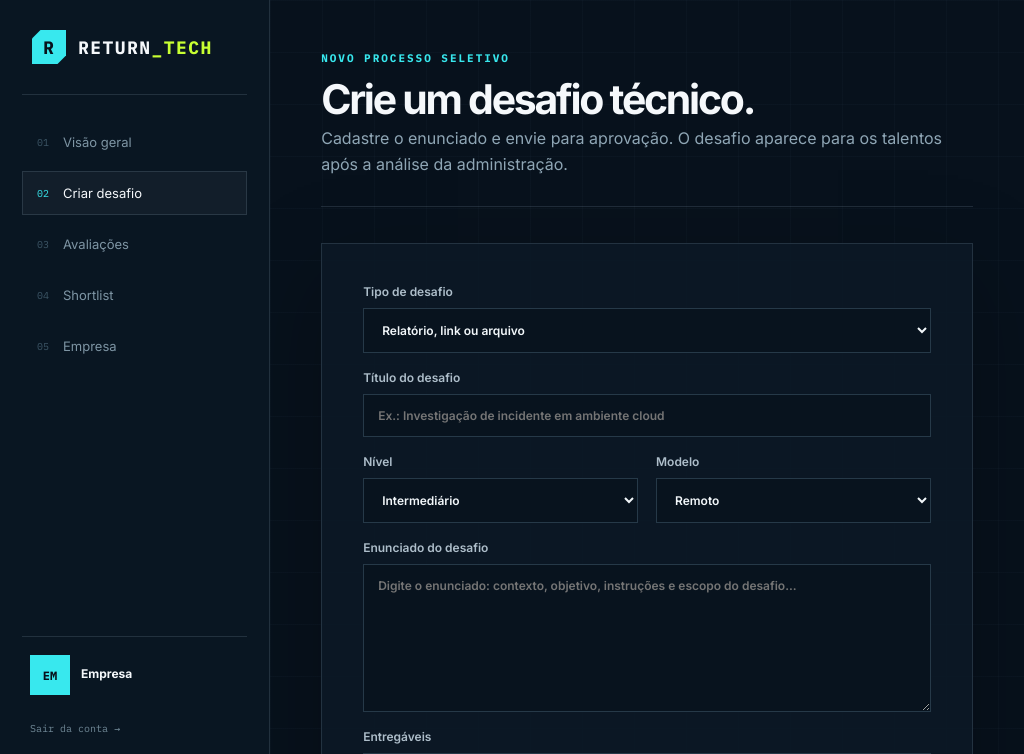
integration with existing project flows › creates a code challenge with friendly fields and resets to report creation
The image size is (1024, 754).
Later steps or results of the test are not shown.
expect the dropdown labelled "Tipo de desafio" is shown: met, box [363,308,931,354]
Type "Soma de valores" into the field labelled "Título do desafio" at (647, 416), box [363,394,931,438]
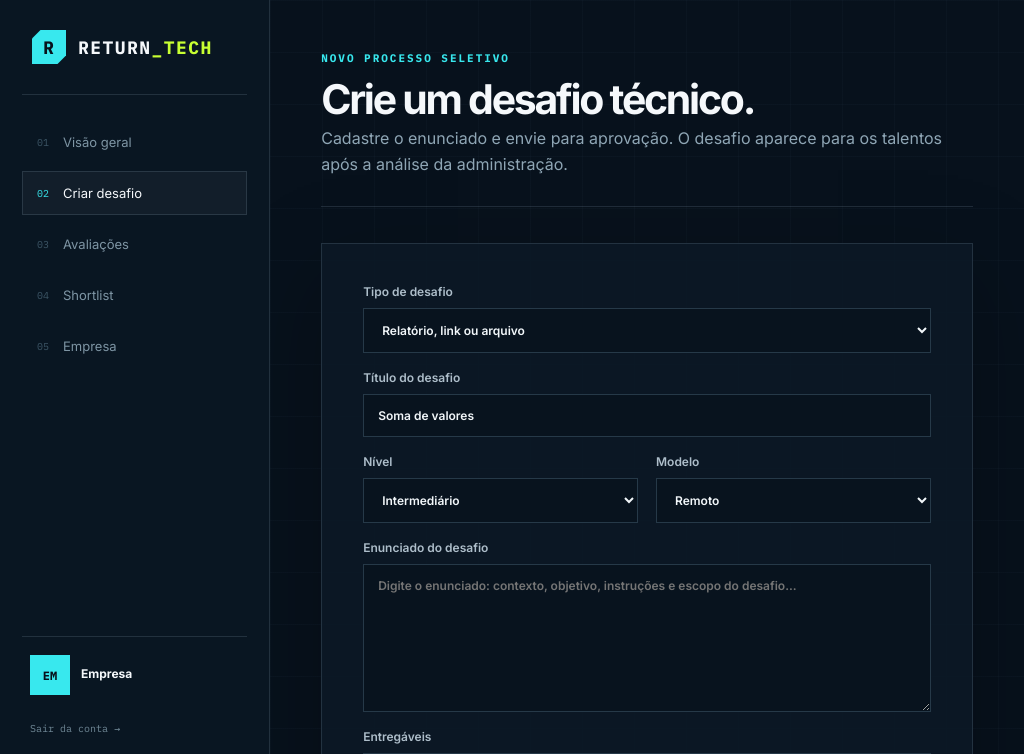
Replace the text in the text box labelled "Enunciado do desafio" with "Some os valores recebidos na entrada." at (647, 638), box [363,564,931,712]
(page scrolled)
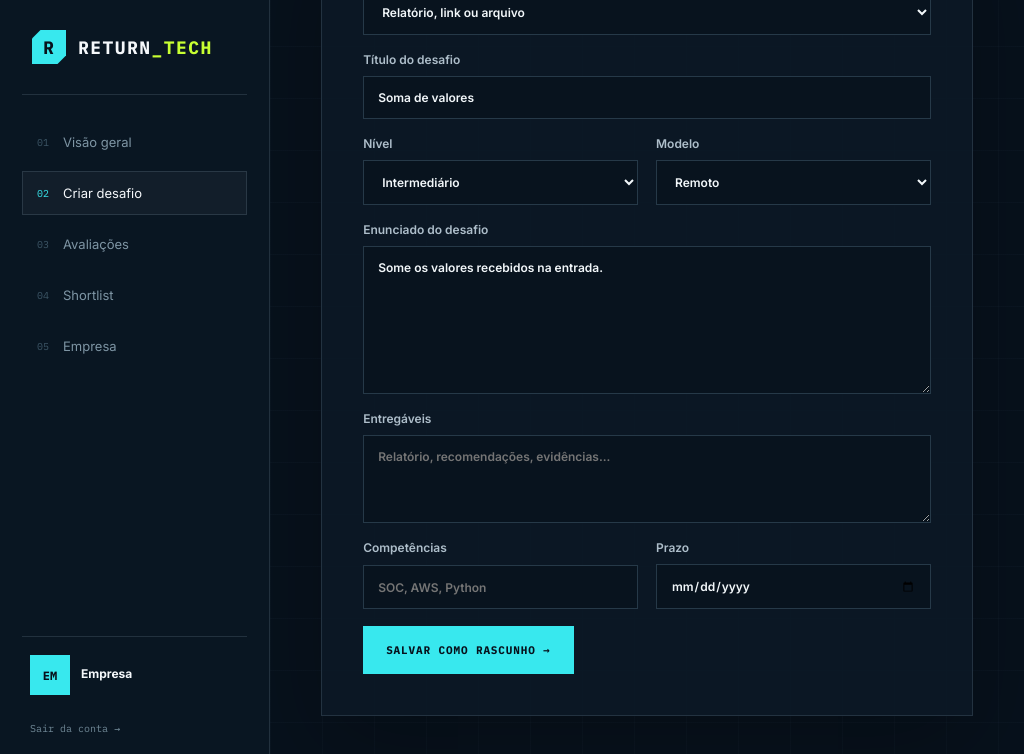
Type "Uma solução para o problema." into the text box labelled "Entregáveis" at (647, 480), box [363,436,931,524]
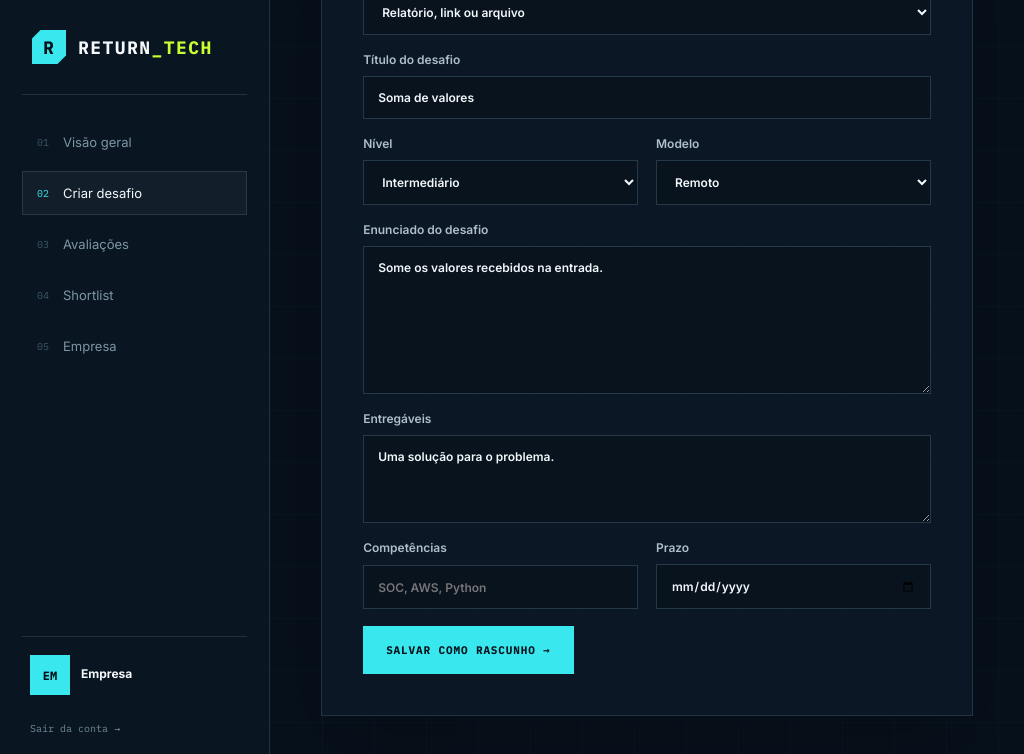
Type "Python, Lógica" into the field labelled "Competências" at (501, 588), box [363,566,638,610]
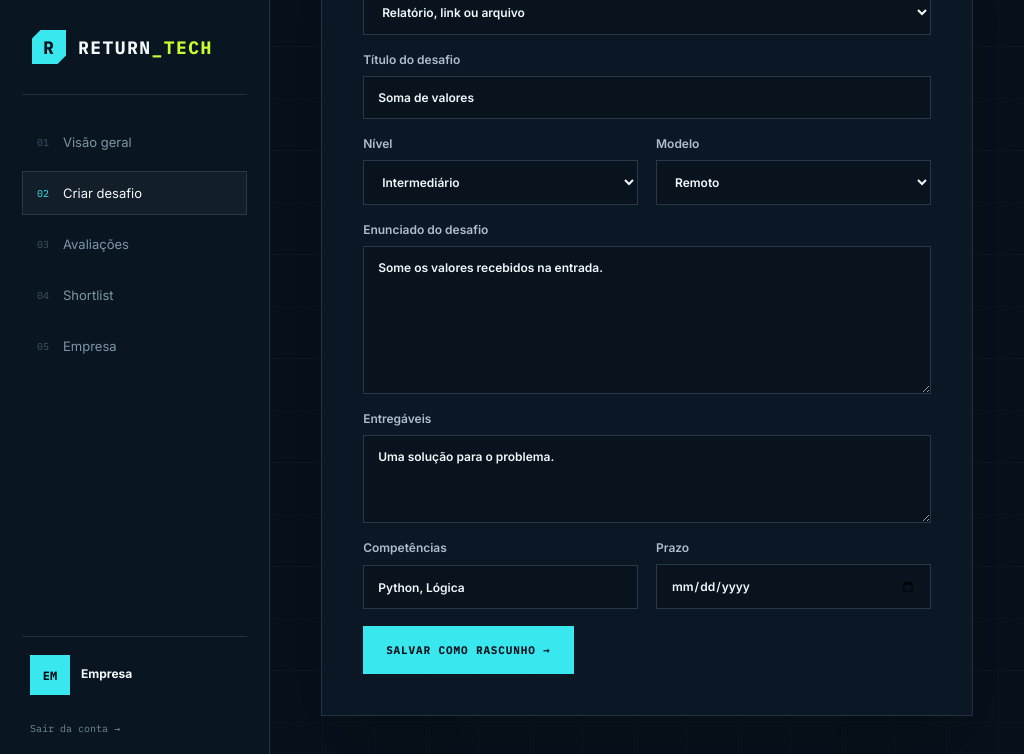
Type "2099-12-31" into the date field labelled "Prazo" at (793, 587), box [656,564,931,610]
(page scrolled)
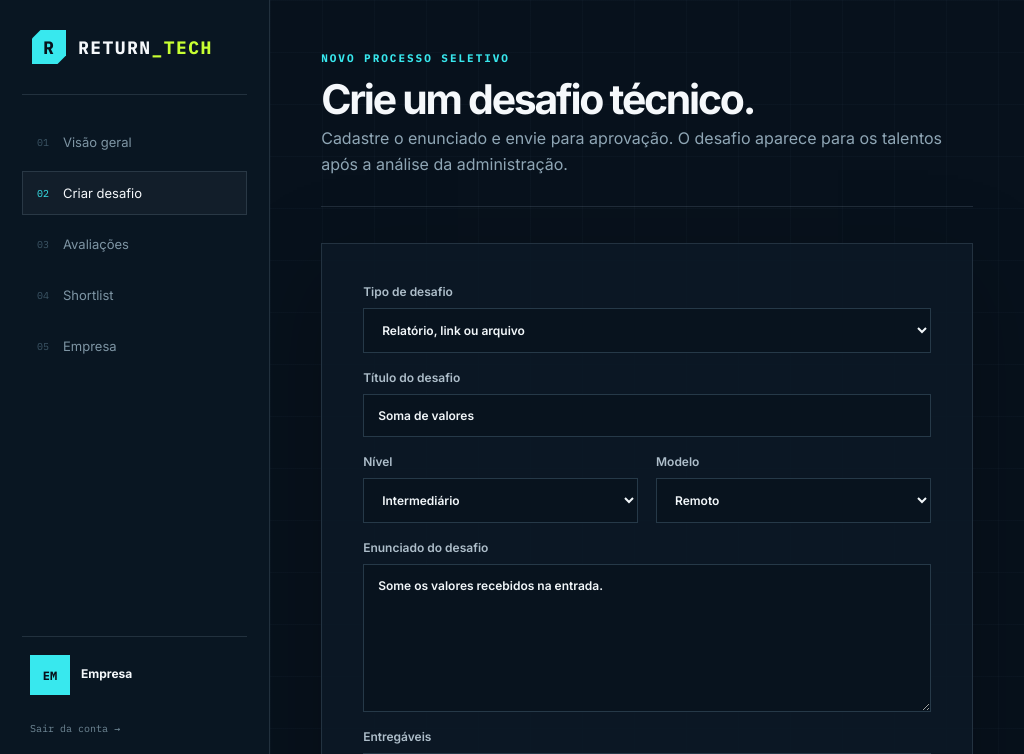
Select "Código com correção automática (Judge0)" in the dropdown labelled "Tipo de desafio" at (647, 331), box [363,308,931,354]
(page scrolled)
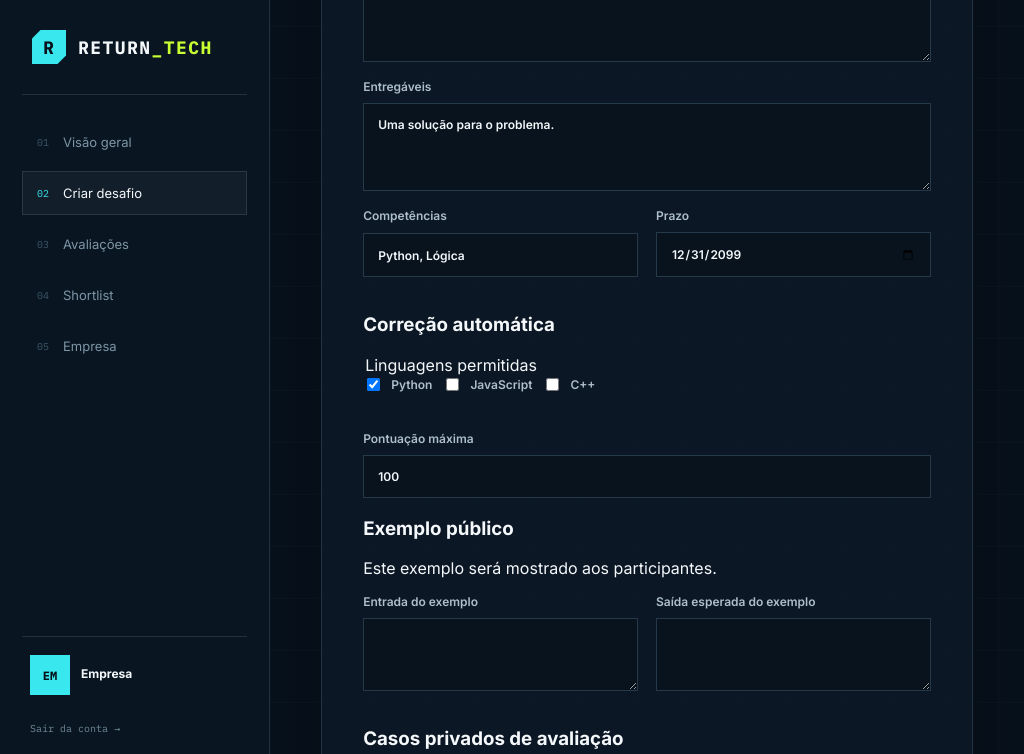
expect the checkbox labelled "Python" is checked: met, box [367,378,380,391]
